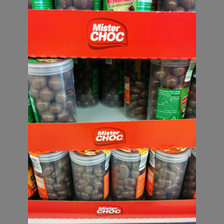chocolate: (29, 57, 79, 123), (145, 59, 193, 119), (69, 151, 111, 199), (150, 149, 189, 197), (110, 149, 148, 198), (30, 153, 68, 199)
